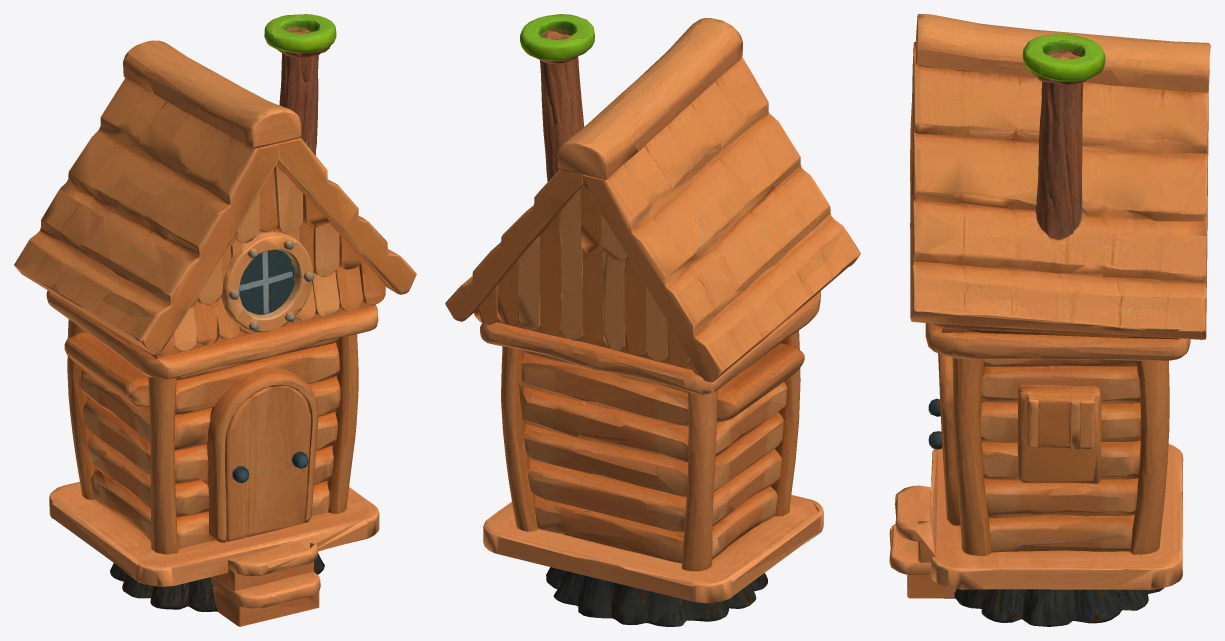
The model's file is treehouse.glb.
The picture shows the model from 3 angles, left to right: view 1: azimuth 30°, elevation 25°; view 2: azimuth 150°, elevation 25°; view 3: azimuth 270°, elevation 25°; orthographic projection. The views are drawn at different scales.
Size of the model in its own units: 1.06 by 1.9 by 0.9562.
Materials: 1 (1 with a texture image).
